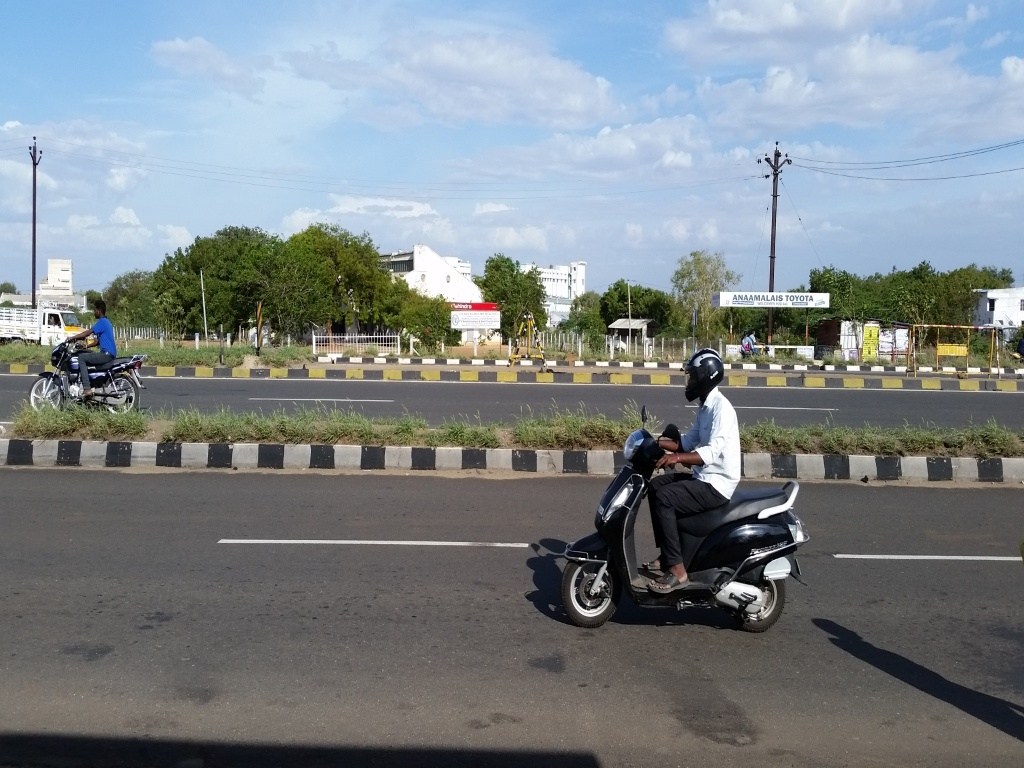biker: (534, 283, 838, 647), (21, 263, 152, 425)
helmet: (680, 338, 733, 408)
nohelmet: (87, 295, 115, 330)
